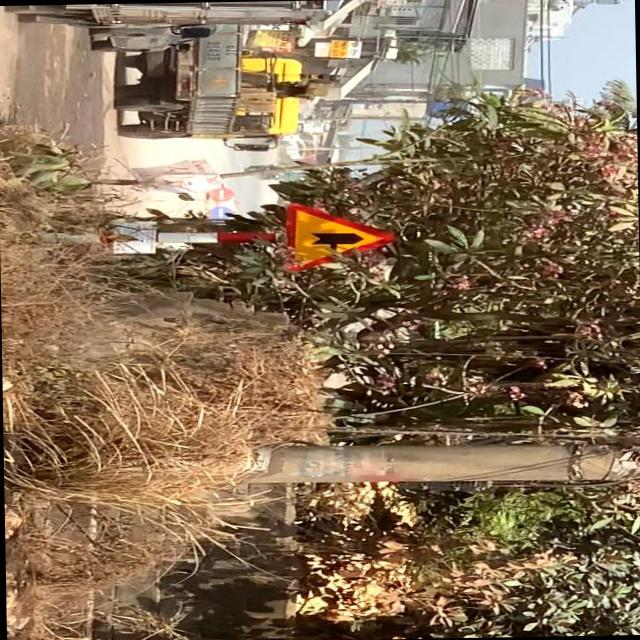W-207b: (278, 202, 397, 268)
